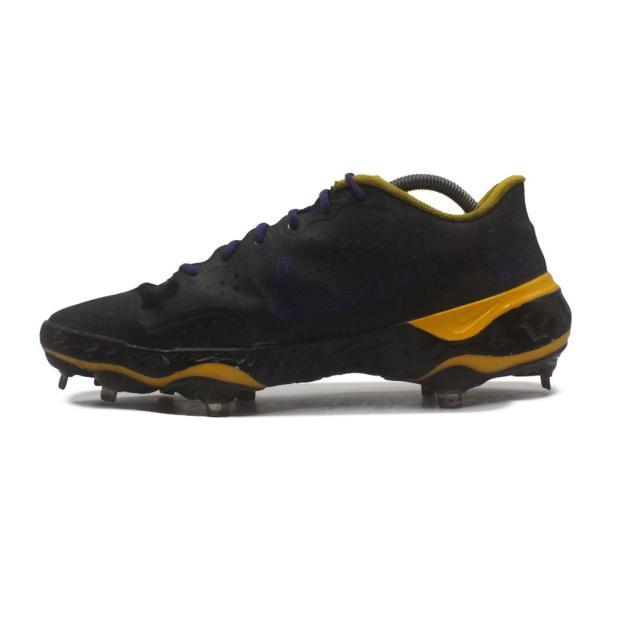heel: (485, 177, 546, 292)
midsole: (43, 275, 573, 394)
uppersole: (44, 178, 507, 350)
